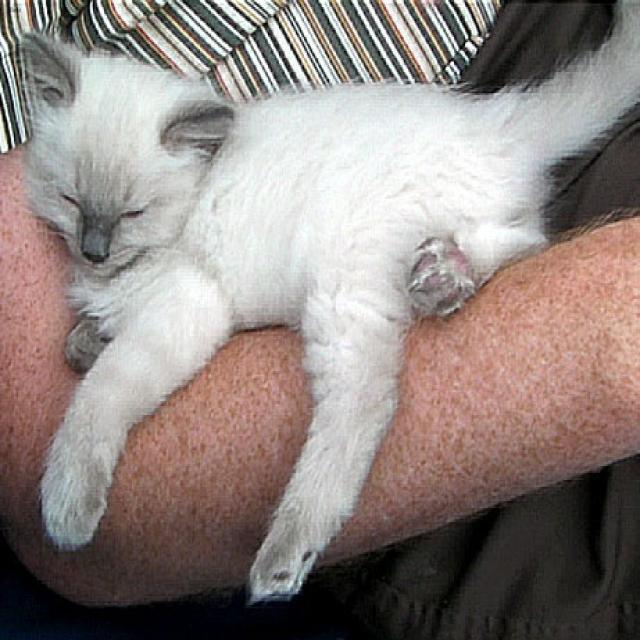Ragdoll: (11, 28, 241, 277)
